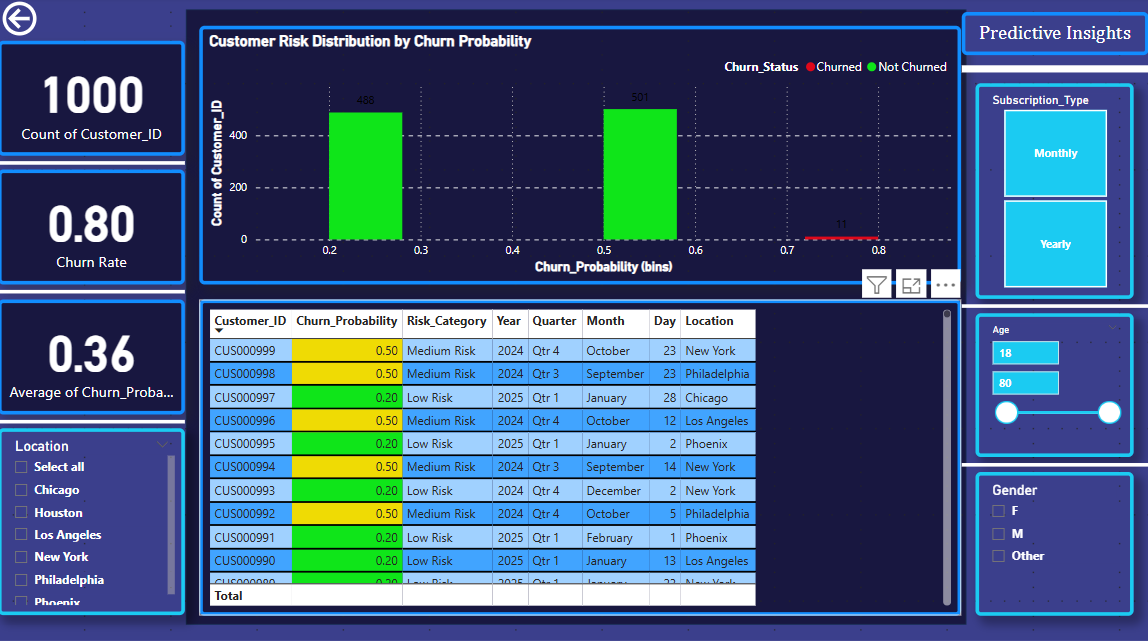

What the dashboard file says about the page in this screenshot:
{"tool":"powerbi","page":{"name":"Predictive Insights","canvas":[1280,720],"ordinal":3},"visuals":[{"type":"clusteredColumnChart","title":"Customer Risk Distribution by Churn Probability","fields":{"Y":["CountNonNull(churn_dataset.Customer_ID)"],"Series":["churn_dataset.Churn_Status"],"Category":["churn_dataset.Churn_Probability (bins)"]},"box":[224,32,848,288],"z":0},{"type":"tableEx","fields":{"Values":["churn_dataset.Customer_ID","churn_dataset.Churn_Probability","churn_dataset.Risk_Category","churn_dataset.Last_Purchase_Date.Variation.Date Hierarchy.Year","churn_dataset.Last_Purchase_Date.Variation.Date Hierarchy.Quarter","churn_dataset.Last_Purchase_Date.Variation.Date Hierarchy.Month","churn_dataset.Last_Purchase_Date.Variation.Date Hierarchy.Day","churn_dataset.Location"]},"box":[224,336,848,352],"z":1000},{"type":"card","fields":{"Values":["CountNonNull(churn_dataset.Customer_ID)"]},"box":[0,48,208,128],"z":2000},{"type":"card","fields":{"Values":["churn_dataset.Churn Rate"]},"box":[0,192,208,128],"z":3000},{"type":"card","fields":{"Values":["Avg(churn_dataset.Churn_Probability)"]},"box":[0,336,208,128],"z":4000},{"type":"slicer","fields":{"Values":["churn_dataset.Subscription_Type"]},"box":[1088,96,176,240],"z":5000},{"type":"slicer","fields":{"Values":["churn_dataset.Age"]},"box":[1088,352,176,160],"z":6000},{"type":"slicer","fields":{"Values":["churn_dataset.Gender"]},"box":[1088,528,176,160],"z":7000},{"type":"slicer","fields":{"Values":["churn_dataset.Location"]},"box":[0,480,208,208],"z":8000},{"type":"shape","box":[0,80,208,208],"z":9000},{"type":"shape","box":[0,224,208,208],"z":10000},{"type":"shape","box":[0,368,208,208],"z":11000},{"type":"shape","box":[1072,256,208,176],"z":12000},{"type":"shape","box":[1072,432,208,176],"z":13000},{"type":"actionButton","box":[0,0,48,48],"z":14000},{"type":"textbox","box":[1072,16,208,48],"z":15000},{"type":"shape","box":[1072,0,208,160],"z":16000}]}

Visuals, with their boxes in screenshot pixels (x1, y1, x2, y2), scaled from the page's 1280x720 canvas onto the 1148x641 screenshot:
"Customer Risk Distribution by Churn Probability" clusteredColumnChart: locate(201, 28, 961, 285)
tableEx - churn_dataset.Customer_ID x churn_dataset.Churn_Probability: locate(201, 299, 961, 613)
card - CountNonNull(churn_dataset.Customer_ID): locate(0, 43, 187, 157)
card - churn_dataset.Churn Rate: locate(0, 171, 187, 285)
card - Avg(churn_dataset.Churn_Probability): locate(0, 299, 187, 413)
slicer - churn_dataset.Subscription_Type: locate(976, 85, 1134, 299)
slicer - churn_dataset.Age: locate(976, 313, 1134, 456)
slicer - churn_dataset.Gender: locate(976, 470, 1134, 613)
slicer - churn_dataset.Location: locate(0, 427, 187, 613)
shape: locate(0, 71, 187, 256)
shape: locate(0, 199, 187, 385)
shape: locate(0, 328, 187, 513)
shape: locate(961, 228, 1147, 385)
shape: locate(961, 385, 1147, 541)
actionButton: locate(0, 0, 43, 43)
textbox: locate(961, 14, 1147, 57)
shape: locate(961, 0, 1147, 142)
